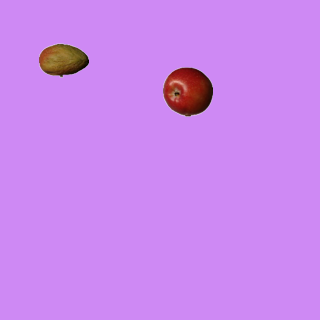Apple Braeburn: (162, 66, 212, 116)
Papaya: (38, 35, 88, 85)
